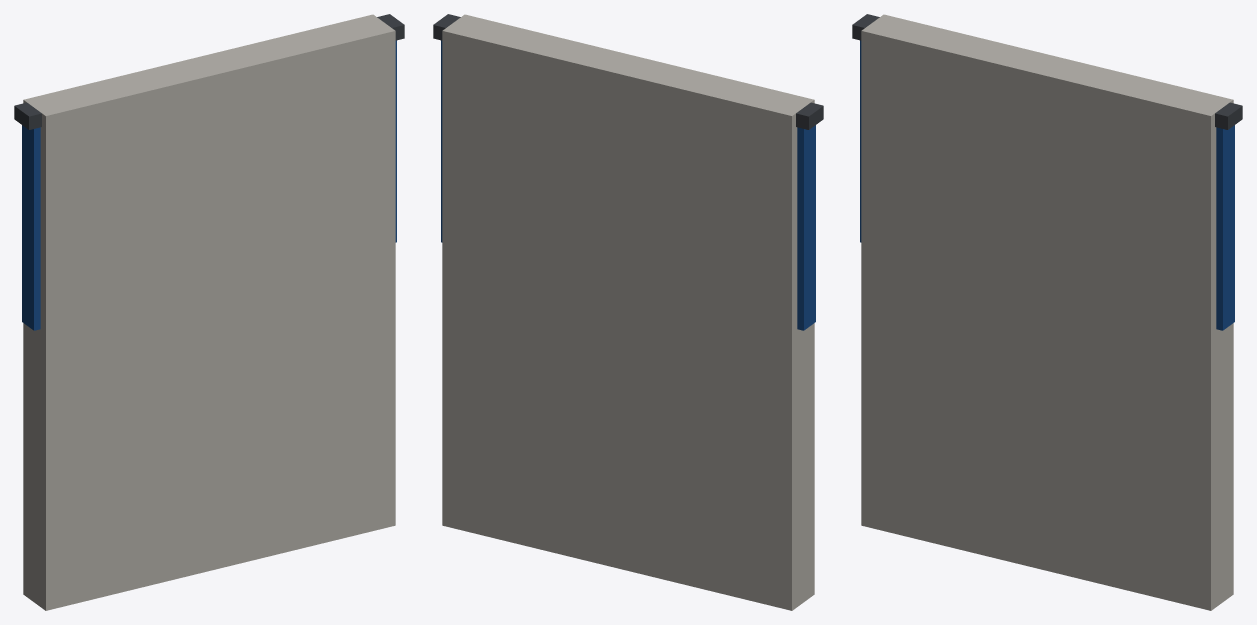
File: PRP_Billboard.fbx
The picture shows the model from 3 angles, left to right: view 1: azimuth 30°, elevation 25°; view 2: azimuth 150°, elevation 25°; view 3: azimuth 330°, elevation 25°; orthographic projection.
Parts seen in each view (by area): view 1: PRP_Billboard__COL_Main, PRP_Billboard__BODY; view 2: PRP_Billboard__COL_Main, PRP_Billboard__BODY; view 3: PRP_Billboard__COL_Main, PRP_Billboard__BODY.
Boxes of the visible parts, <box> form: PRP_Billboard__COL_Main: <box>23,14,395,610</box>; PRP_Billboard__BODY: <box>14,14,404,330</box>; PRP_Billboard__COL_Main: <box>442,14,814,610</box>; PRP_Billboard__BODY: <box>433,14,823,330</box>; PRP_Billboard__COL_Main: <box>861,14,1233,610</box>; PRP_Billboard__BODY: <box>852,14,1242,330</box>.
Size of the model in its own units: 5.8 by 7.3 by 0.6.
